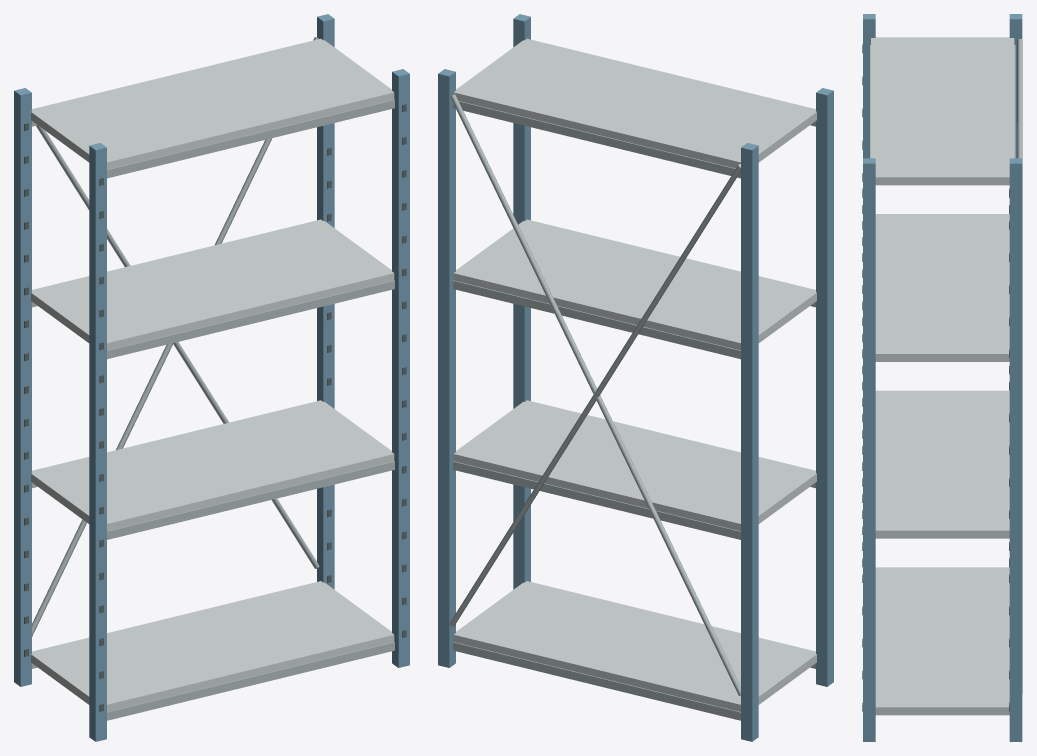
The model's file is shelf.glb.
The picture shows the model from 3 angles, left to right: view 1: azimuth 30°, elevation 25°; view 2: azimuth 150°, elevation 25°; view 3: azimuth 270°, elevation 25°; orthographic projection. The views are drawn at different scales.
Parts seen in each view (by area): view 1: Lagerhylla; view 2: Lagerhylla; view 3: Lagerhylla.
Part boxes in pixels (box(x1,y1,x2,y2)): Lagerhylla: box(14, 14, 409, 741); Lagerhylla: box(438, 14, 833, 741); Lagerhylla: box(862, 14, 1022, 741).
Bounding box in the file's own units: 1 × 1.8 × 0.453.
